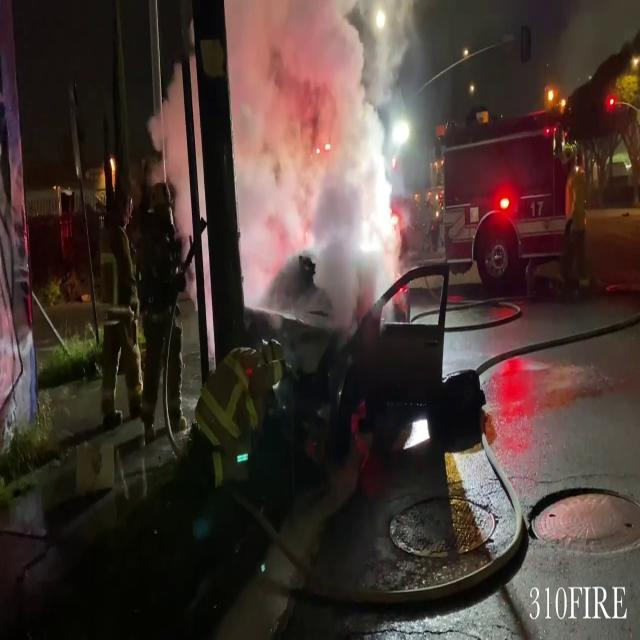Smoke: (230, 0, 421, 301)
